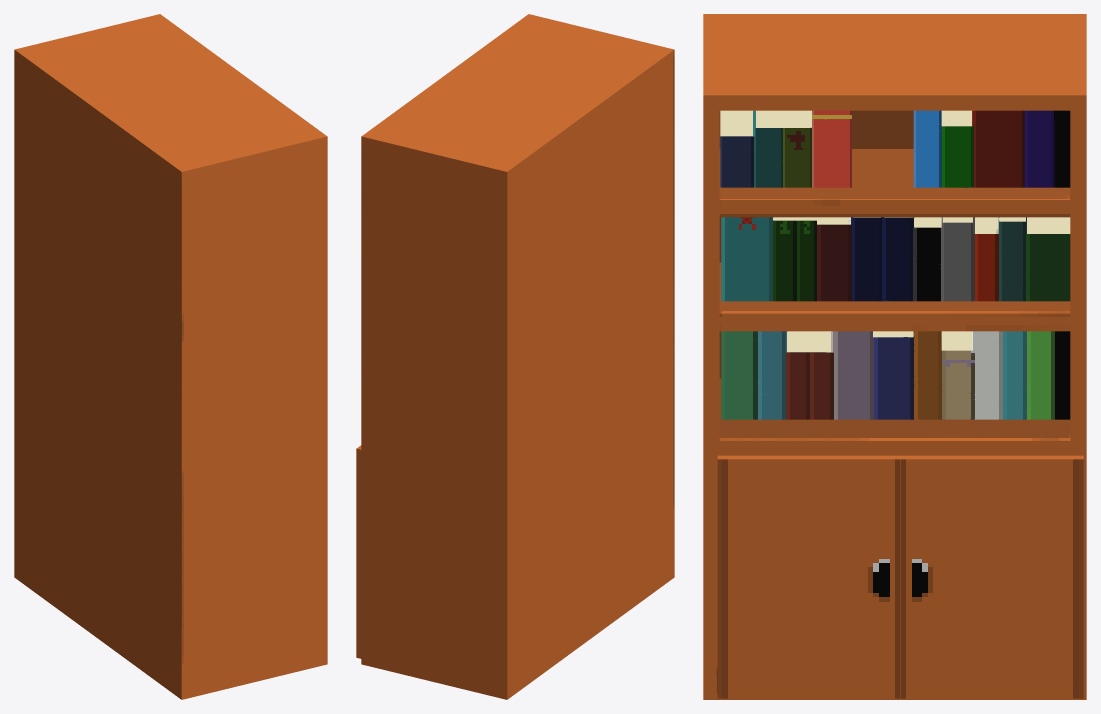
Rendered from books-cabinet.glb.
3 views of the same model, side by side, from view 1: azimuth 30°, elevation 25°; view 2: azimuth 150°, elevation 25°; view 3: azimuth 270°, elevation 25° (orthographic). The views are drawn at different scales.
Visible parts, largest first — view 1: cabinet; view 2: cabinet, door2; view 3: cabinet, door2, door1, books3, books2, books1.
Boxes of the visible parts, x1,y1,x2,y2 form: cabinet: [14, 14, 327, 699]; cabinet: [361, 14, 674, 699]; door2: [356, 445, 361, 658]; cabinet: [703, 14, 1086, 699]; door2: [900, 455, 1083, 698]; door1: [717, 455, 900, 698]; books3: [721, 331, 1070, 419]; books2: [721, 217, 1070, 301]; books1: [720, 110, 1070, 187].
Bounding box in the file's own units: 1.8 × 5.96 × 3.43.
Materials: 5 (5 with a texture image).
